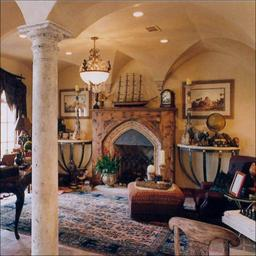Matera: (96, 153, 117, 192)
